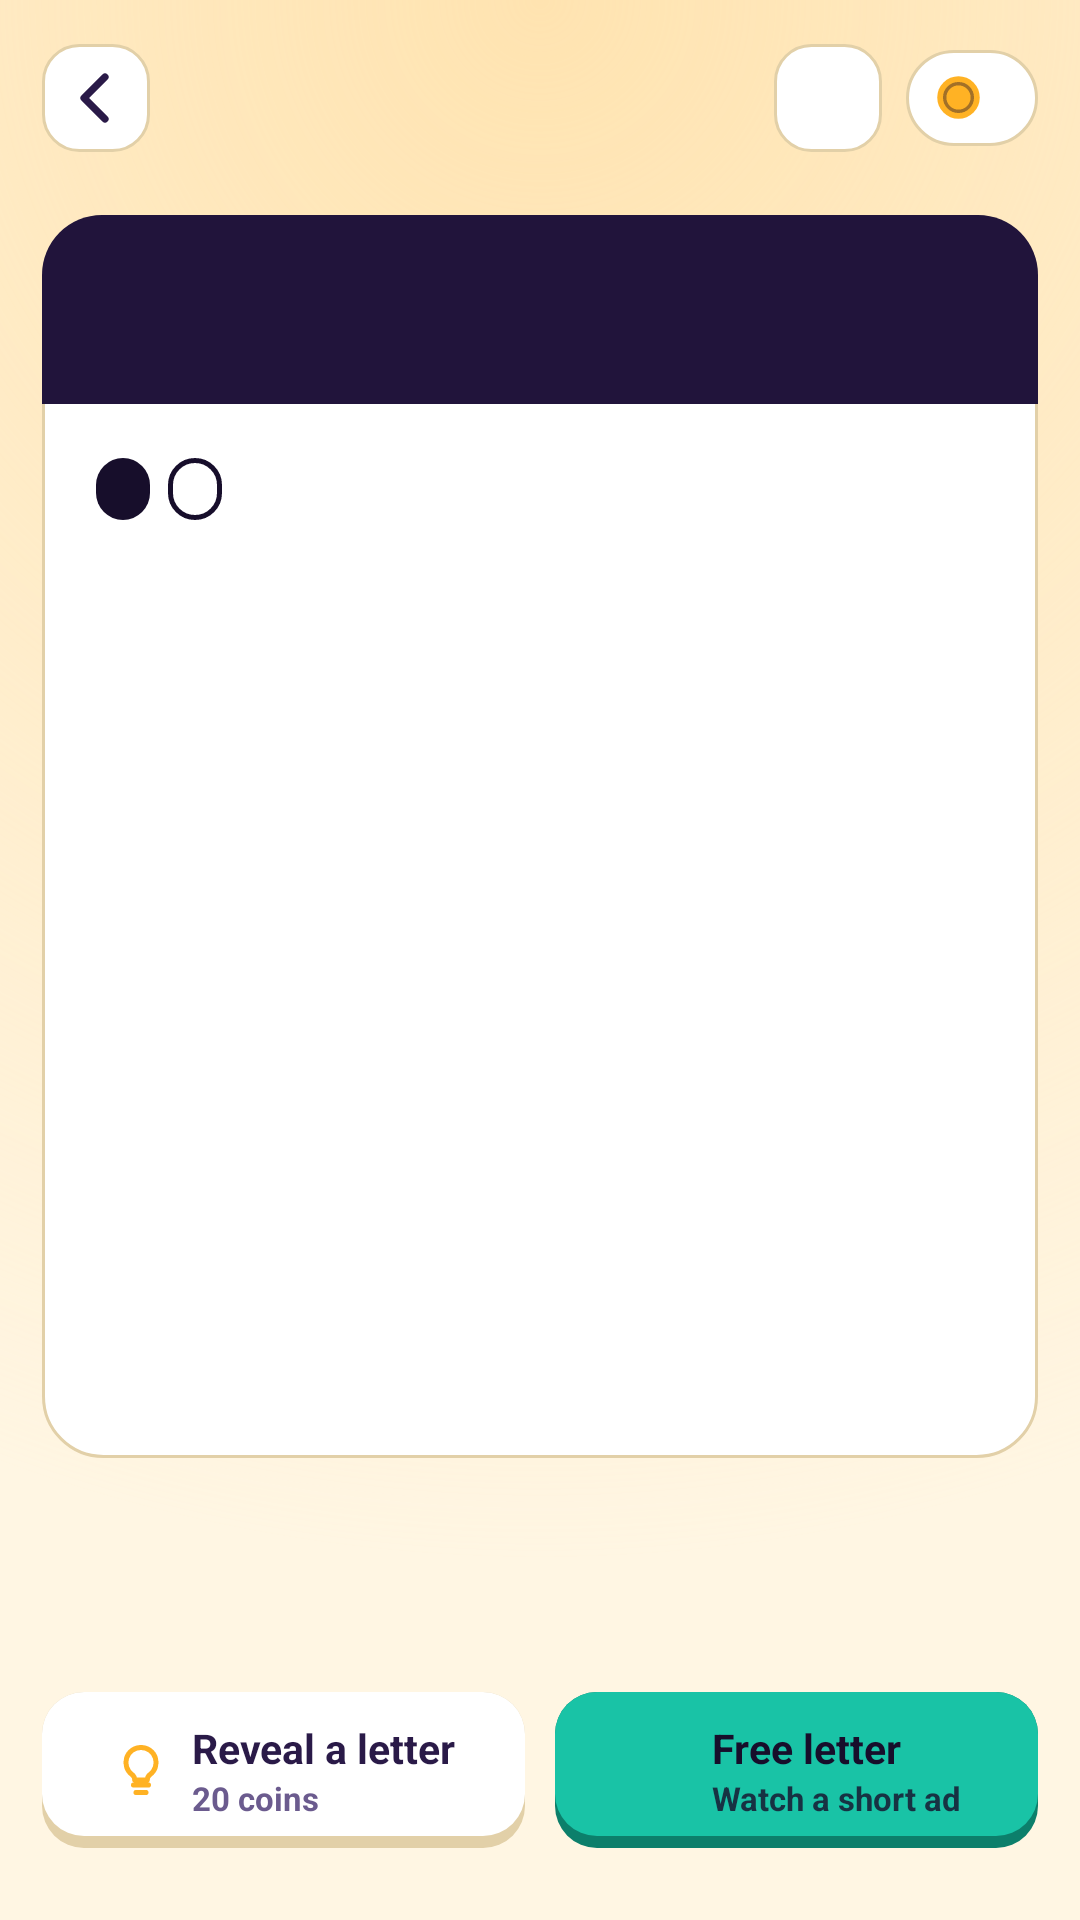

Icon click points for this 1080px x 1920px phone screenshot, format (x,y):
Back: (96,98)
bulb: (141,1770)
coin: (958,97)
